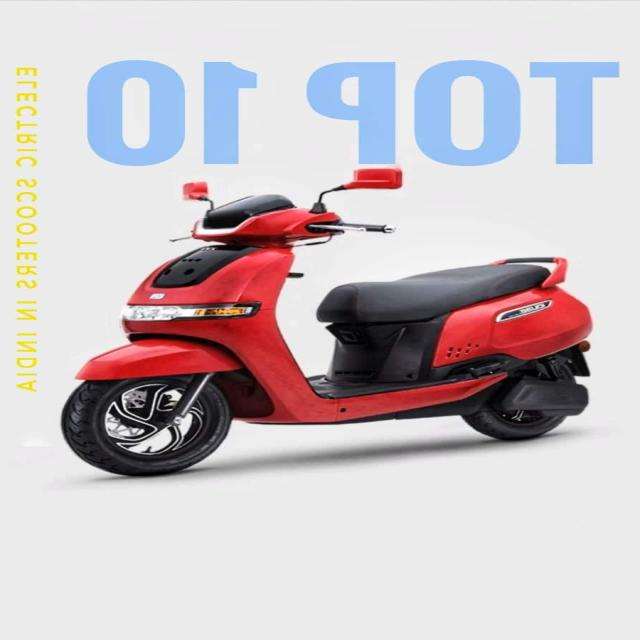motorcycle: (62, 195, 593, 475)
